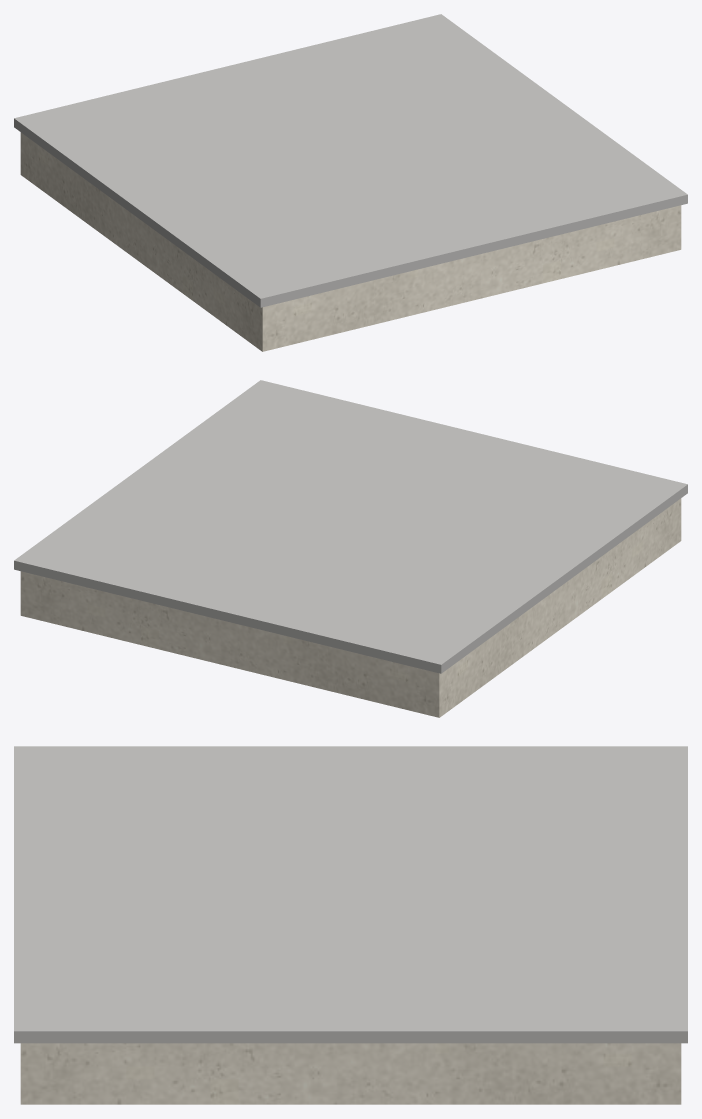
File: roof_tile_flat.glb
3 views of the same model, one above another, from view 1: azimuth 30°, elevation 25°; view 2: azimuth 150°, elevation 25°; view 3: azimuth 270°, elevation 25° (orthographic). The views are drawn at different scales.
Visible parts, largest first — view 1: roof_tile_flat_roof, roof_tile_flat_plaster; view 2: roof_tile_flat_roof, roof_tile_flat_plaster; view 3: roof_tile_flat_roof, roof_tile_flat_plaster.
Boxes of the visible parts, x1,y1,x2,y2 form: roof_tile_flat_roof: (14, 14, 687, 307); roof_tile_flat_plaster: (20, 132, 681, 351); roof_tile_flat_roof: (14, 380, 687, 673); roof_tile_flat_plaster: (20, 498, 681, 717); roof_tile_flat_roof: (14, 746, 687, 1043); roof_tile_flat_plaster: (20, 1043, 681, 1104).
Size of the model in its own units: 2 by 0.25 by 2.
2 materials, 1 textured.
